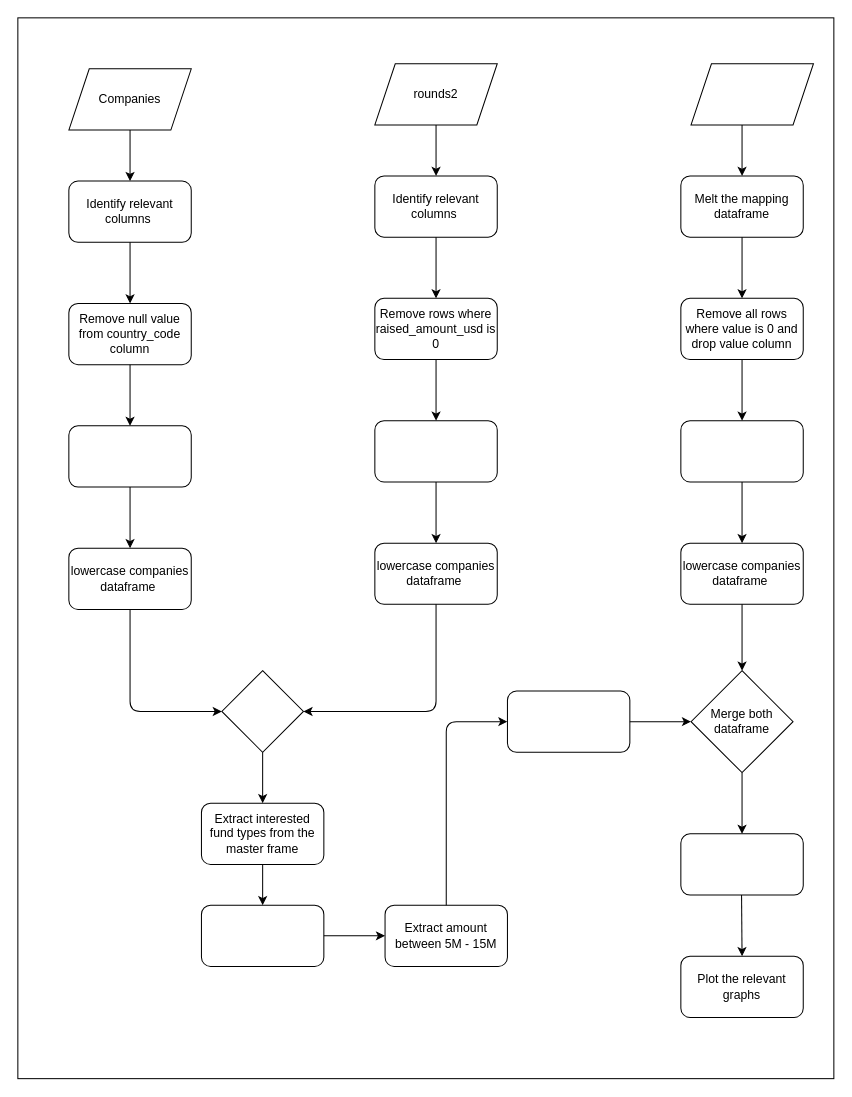
This 852x1097 diagram has some shape labels left out. Here are the shapes that lost their labels. From the top down, the box of each, then its label:
(690, 63, 813, 125): mapping
(68, 425, 191, 487): Fill null value in category_list with the column's mode
(374, 420, 497, 482): fill null value of raised_amount_usd with its median
(680, 420, 803, 482): rename 'variable' column to 'sector'
(221, 670, 303, 752): Inner join
(506, 690, 630, 752): Pick Top 3 English speaking countries
(680, 833, 803, 895): Indentify D1, D2 and D3 dataframe
(200, 904, 324, 966): Remove Outliers for every funding round type
